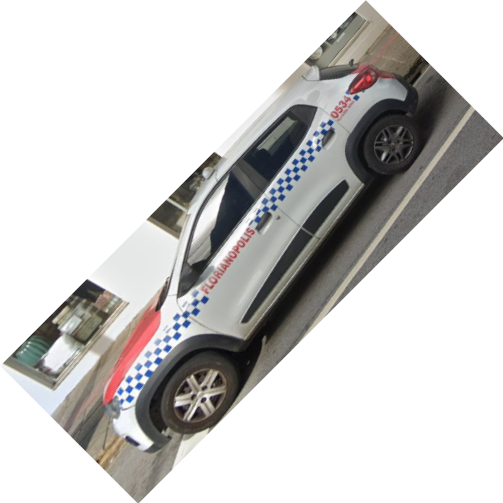car: (99, 59, 422, 454)
